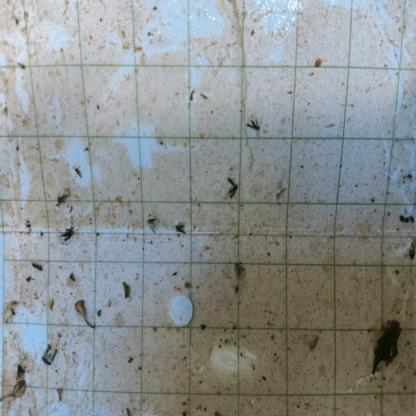prays_oleae: (246, 114, 264, 137), (172, 220, 192, 240), (54, 186, 70, 211), (58, 224, 79, 242), (225, 177, 241, 199), (30, 258, 44, 274)
